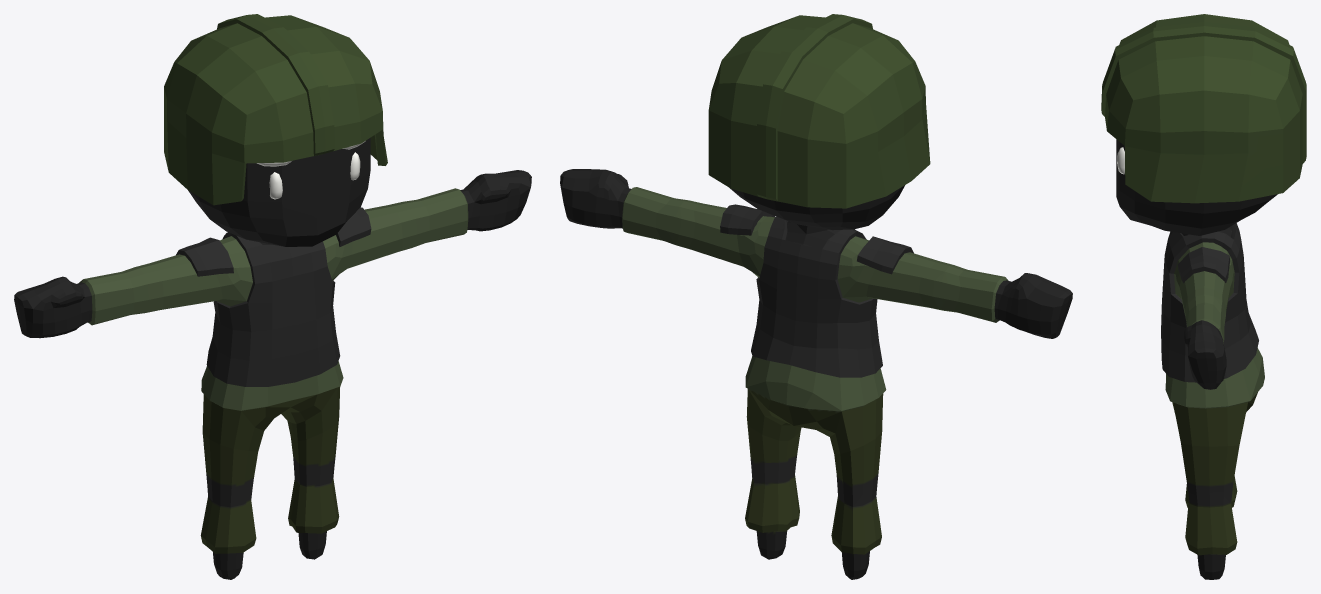
The model's file is Soldier_Male.fbx.
3 views of the same model, side by side, from view 1: azimuth 30°, elevation 25°; view 2: azimuth 150°, elevation 25°; view 3: azimuth 270°, elevation 25° (orthographic).
Parts seen in each view (by area): view 1: Body; view 2: Body; view 3: Body.
Part boxes in pixels (x1,y1,x2,y2): Body: [14, 14, 531, 579]; Body: [560, 14, 1072, 579]; Body: [1101, 14, 1306, 579].
Bounding box in the file's own units: 324 × 328 × 115.
Materials: 1 (1 with a texture image).
